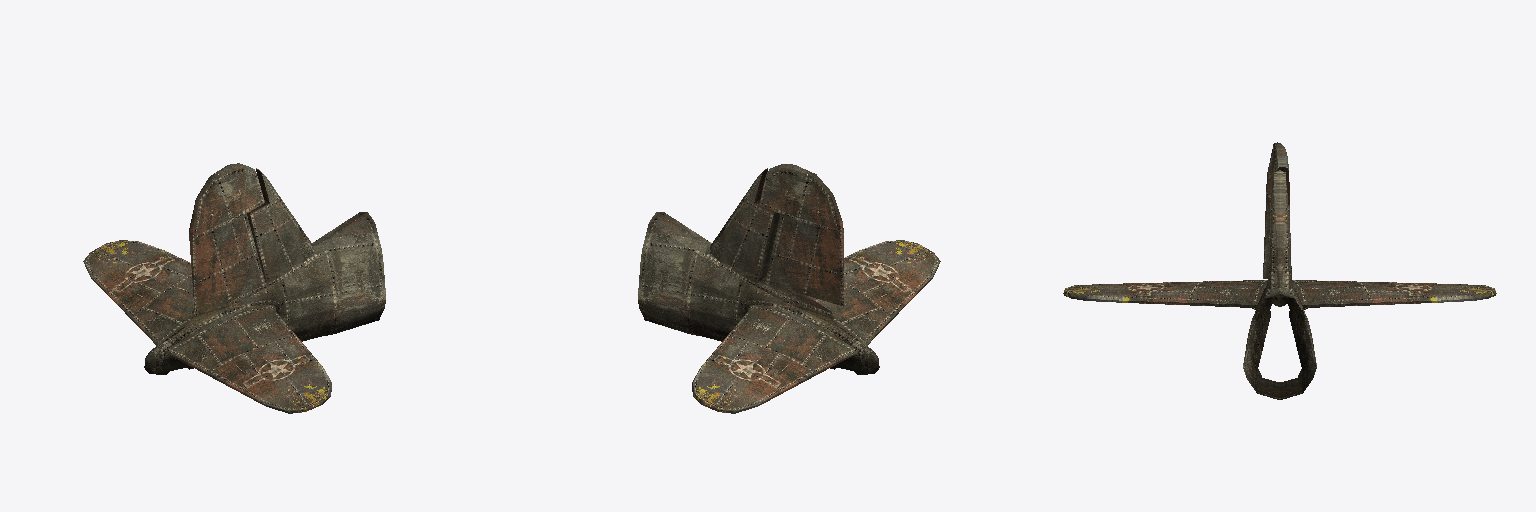
3 renders of one model, left to right at view 1: azimuth 30°, elevation 25°; view 2: azimuth 150°, elevation 25°; view 3: azimuth 270°, elevation 25°, orthographic.
Visible parts, largest first — view 1: Plane0; view 2: Plane0; view 3: Plane0.
Boxes of the visible parts, x1=… form: Plane0: x1=83, y1=163, x2=385, y2=413; Plane0: x1=638, y1=164, x2=940, y2=413; Plane0: x1=1063, y1=142, x2=1496, y2=399.
Size of the model in its own units: 3.6 by 2.97 by 6.04.
1 materials, 1 textured.